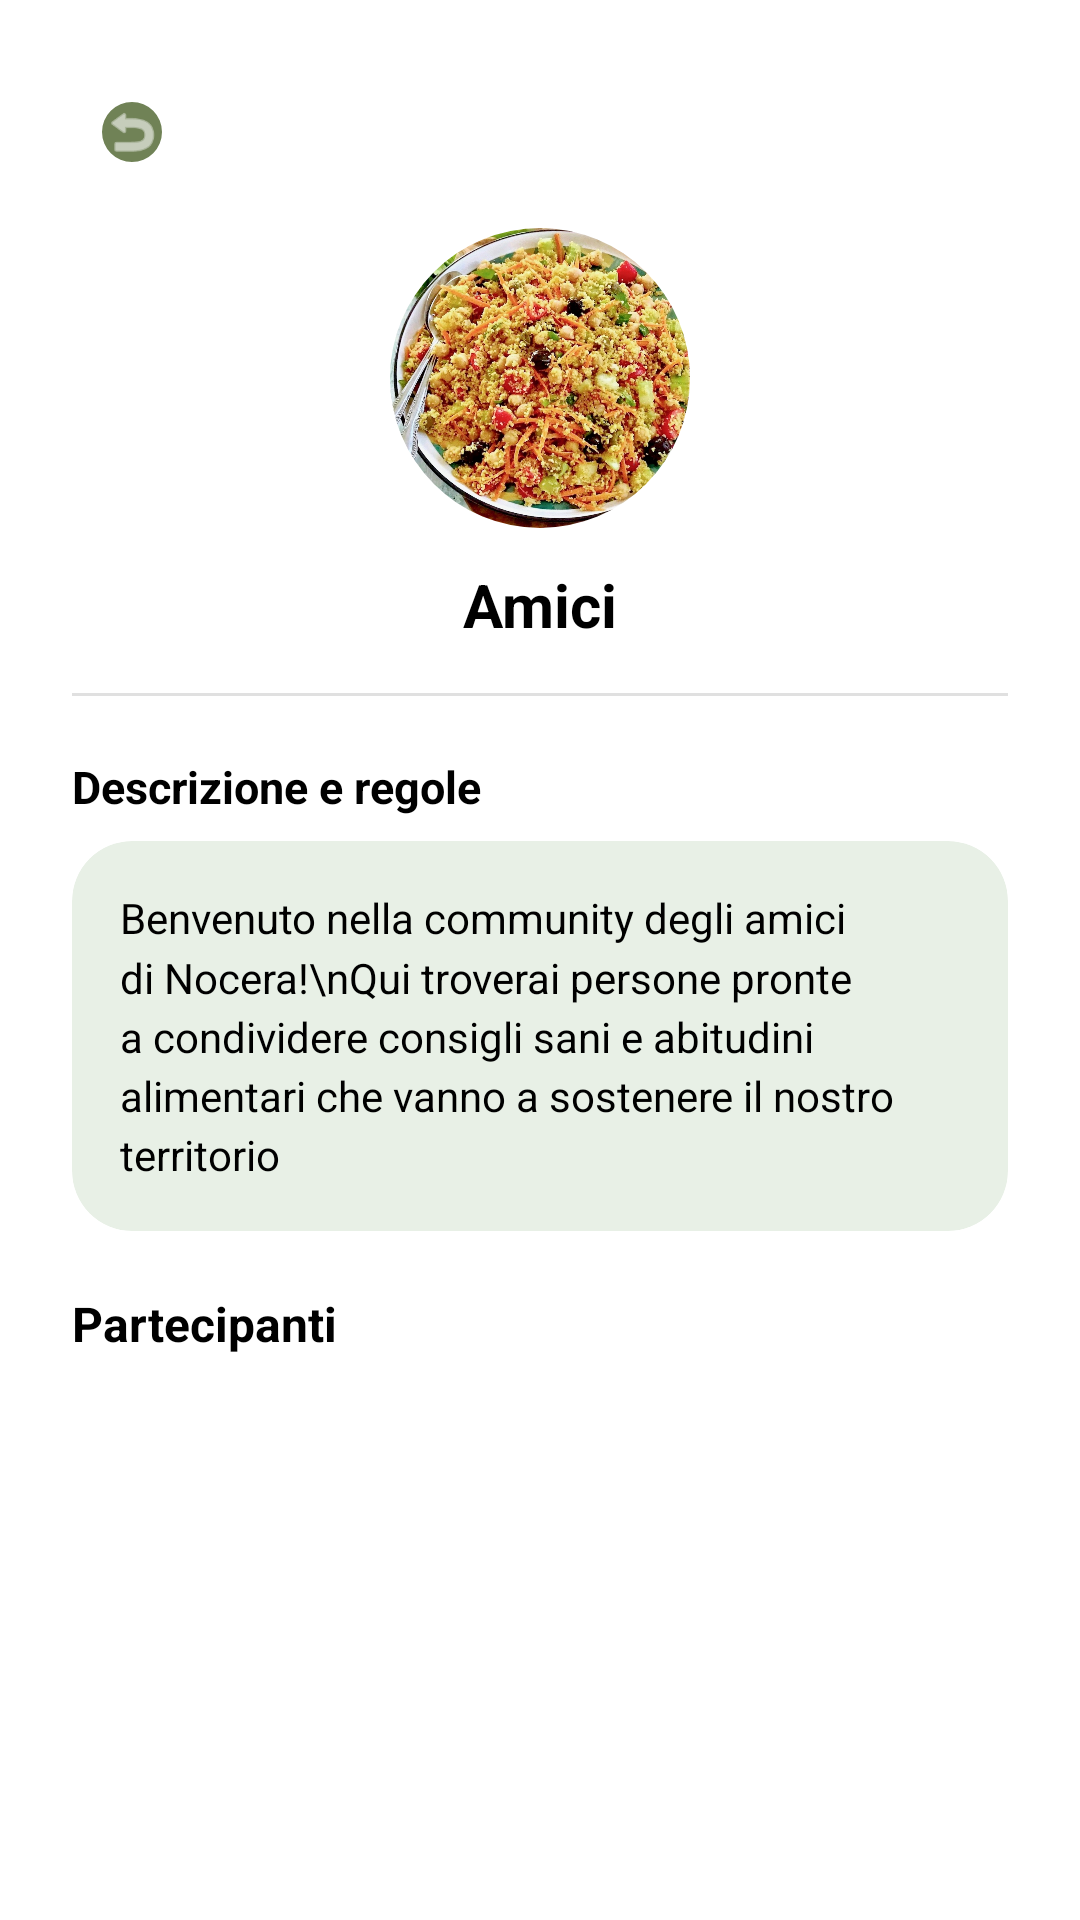

Where to tap for icons on this 1080px x 1920px app screen, as (x=x, y=y):
cous: (x=540, y=378)
revert: (x=132, y=132)
